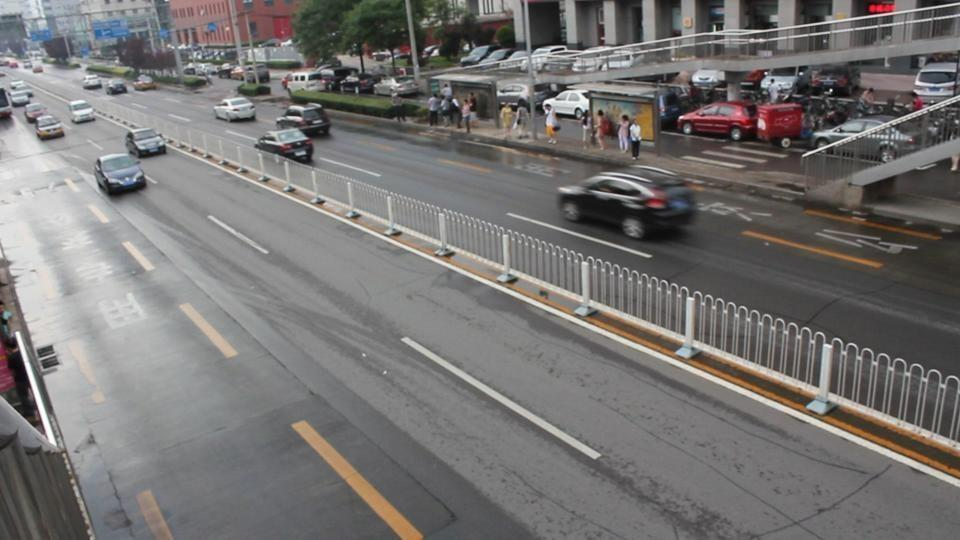car: (556, 171, 699, 240), (807, 116, 910, 158), (676, 102, 761, 141), (93, 153, 146, 197), (255, 128, 315, 165), (913, 61, 960, 106), (277, 103, 332, 137), (124, 125, 166, 158), (543, 90, 590, 119), (212, 95, 257, 123), (458, 45, 510, 69), (373, 76, 421, 97), (492, 51, 531, 73), (35, 117, 66, 140), (67, 99, 95, 124), (6, 82, 34, 106), (0, 88, 14, 123), (24, 102, 48, 122), (132, 77, 158, 91), (106, 80, 129, 95), (82, 75, 103, 90)
